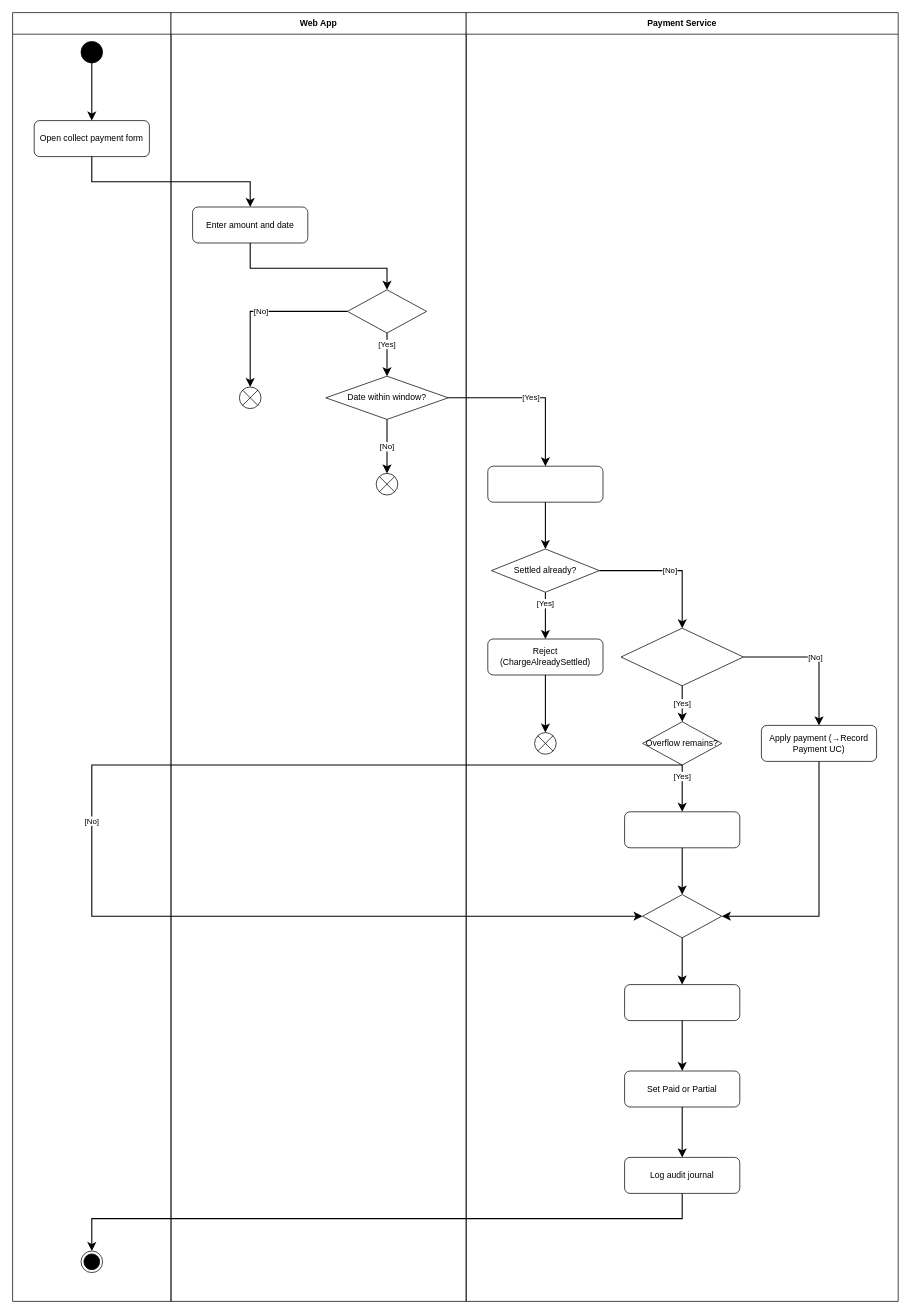
The diagram is 911 pixels wide and 1314 high, and some of its shapes have lost their labels. Each missing label, with the box of its shape:
Accountant: (12, 12, 171, 1301)
Amount > 0?: (347, 289, 427, 333)
Amount split into applied and overflow?: (620, 627, 743, 686)
Deposit overflow (→Record Deposit UC): (624, 811, 740, 848)
Issue receipt: (624, 984, 740, 1021)
Lock charge and read remaining: (487, 465, 603, 502)
